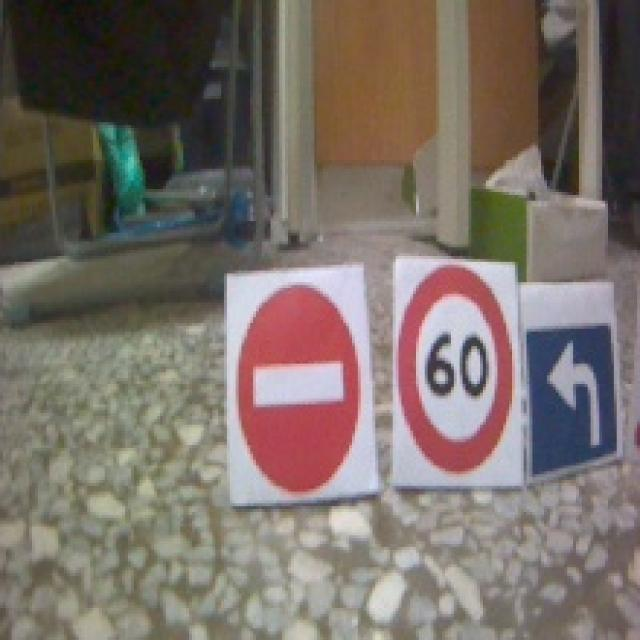DoNotEnterSign: (243, 287, 361, 494)
